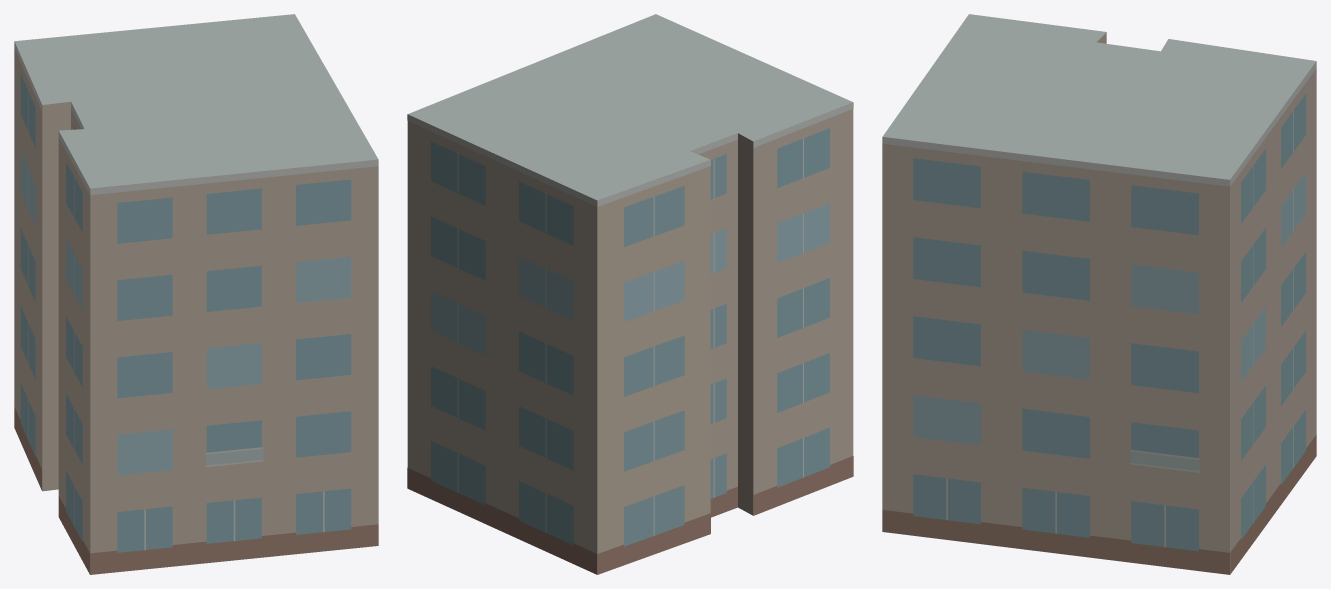
The model's file is survey-upis-32880927.glb.
3 renders of one model, left to right at view 1: azimuth 30°, elevation 25°; view 2: azimuth 150°, elevation 25°; view 3: azimuth 270°, elevation 25°, orthographic. The views are drawn at different scales.
Parts seen in each view (by area): view 1: survey-upis-32880927.tmp; view 2: survey-upis-32880927.tmp; view 3: survey-upis-32880927.tmp.
Boxes of the visible parts, bbox=[...] form: survey-upis-32880927.tmp: bbox=[14, 14, 378, 574]; survey-upis-32880927.tmp: bbox=[407, 14, 853, 574]; survey-upis-32880927.tmp: bbox=[882, 14, 1316, 574].
Bounding box in the file's own units: 12.8 × 14.2 × 14.16.
